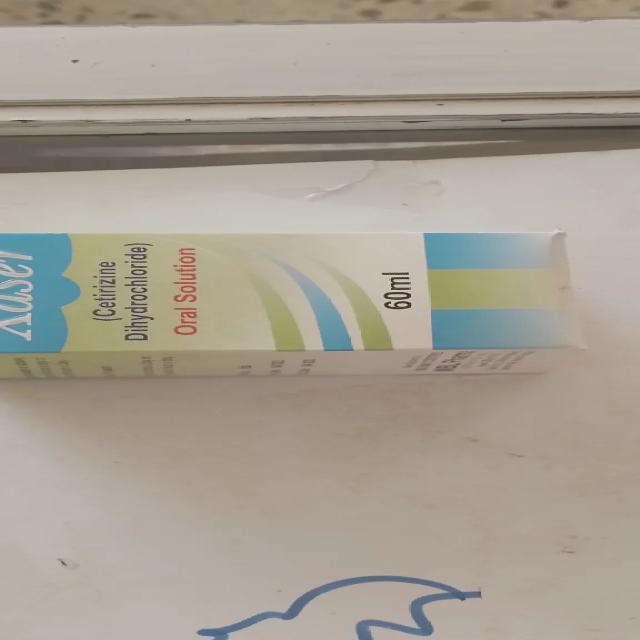drug-name: (0, 250, 34, 342)
